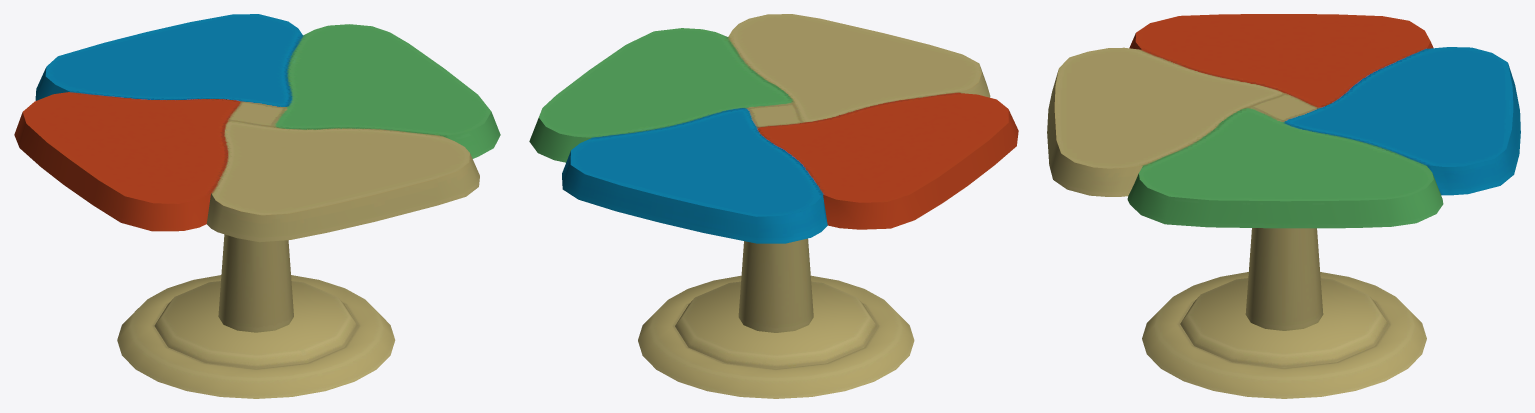
File: Homeworld_Exterior_Common_Table_Google_01_Vo.fbx
3 views of the same model, side by side, from view 1: azimuth 30°, elevation 25°; view 2: azimuth 150°, elevation 25°; view 3: azimuth 270°, elevation 25° (orthographic). The views are drawn at different scales.
Visible parts, largest first — view 1: Homeworld_Exterior_Common_Table_Google_01_Vo; view 2: Homeworld_Exterior_Common_Table_Google_01_Vo; view 3: Homeworld_Exterior_Common_Table_Google_01_Vo.
Boxes of the visible parts, x1=… form: Homeworld_Exterior_Common_Table_Google_01_Vo: x1=14, y1=14, x2=500, y2=398; Homeworld_Exterior_Common_Table_Google_01_Vo: x1=529, y1=14, x2=1018, y2=398; Homeworld_Exterior_Common_Table_Google_01_Vo: x1=1047, y1=14, x2=1520, y2=398.
Bounding box in the file's own units: 1.38 × 0.7706 × 1.43.
